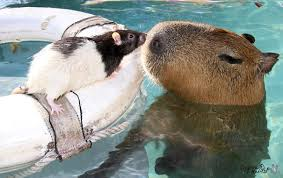capivara: (145, 20, 280, 114)
